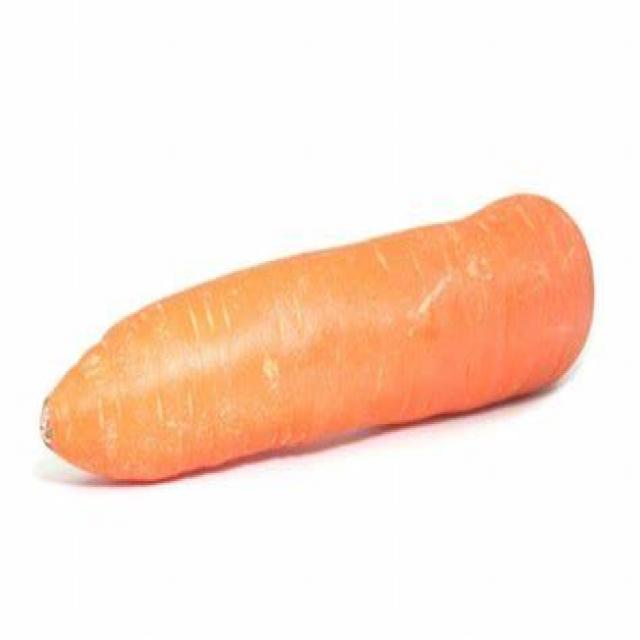Carrot: (36, 194, 598, 491)
